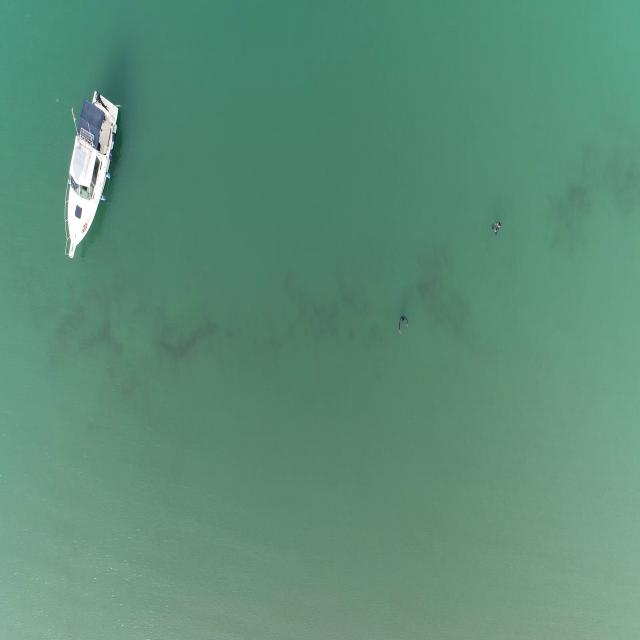boat: (60, 89, 120, 263)
person: (490, 217, 502, 244), (397, 314, 411, 336)
